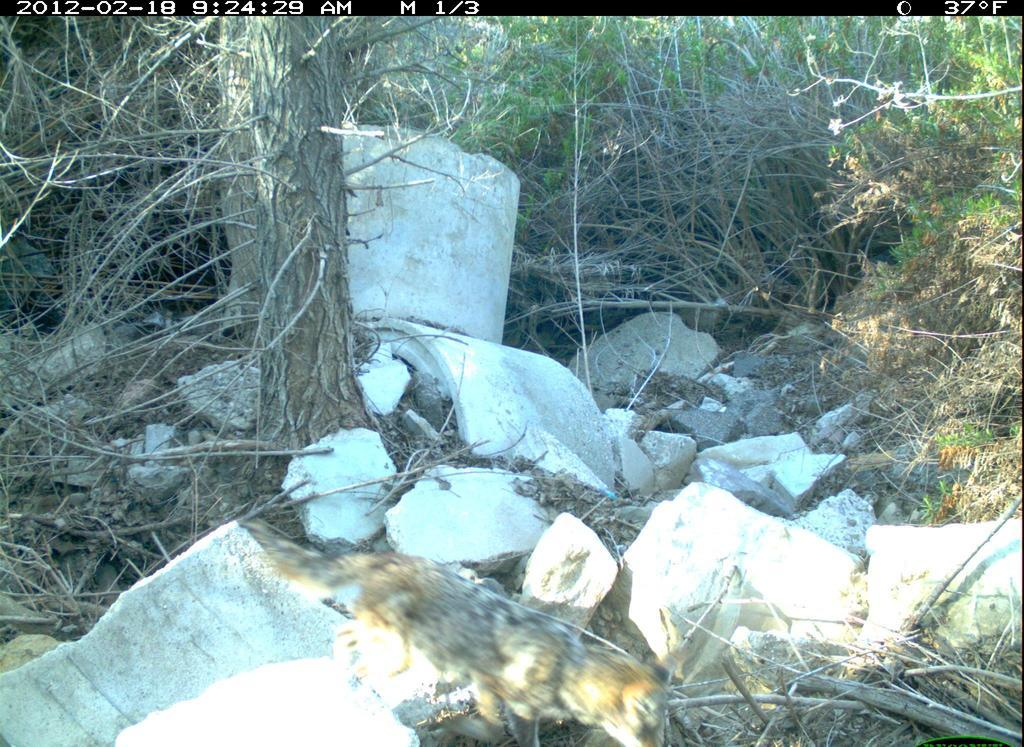coyote: (248, 521, 676, 747)
